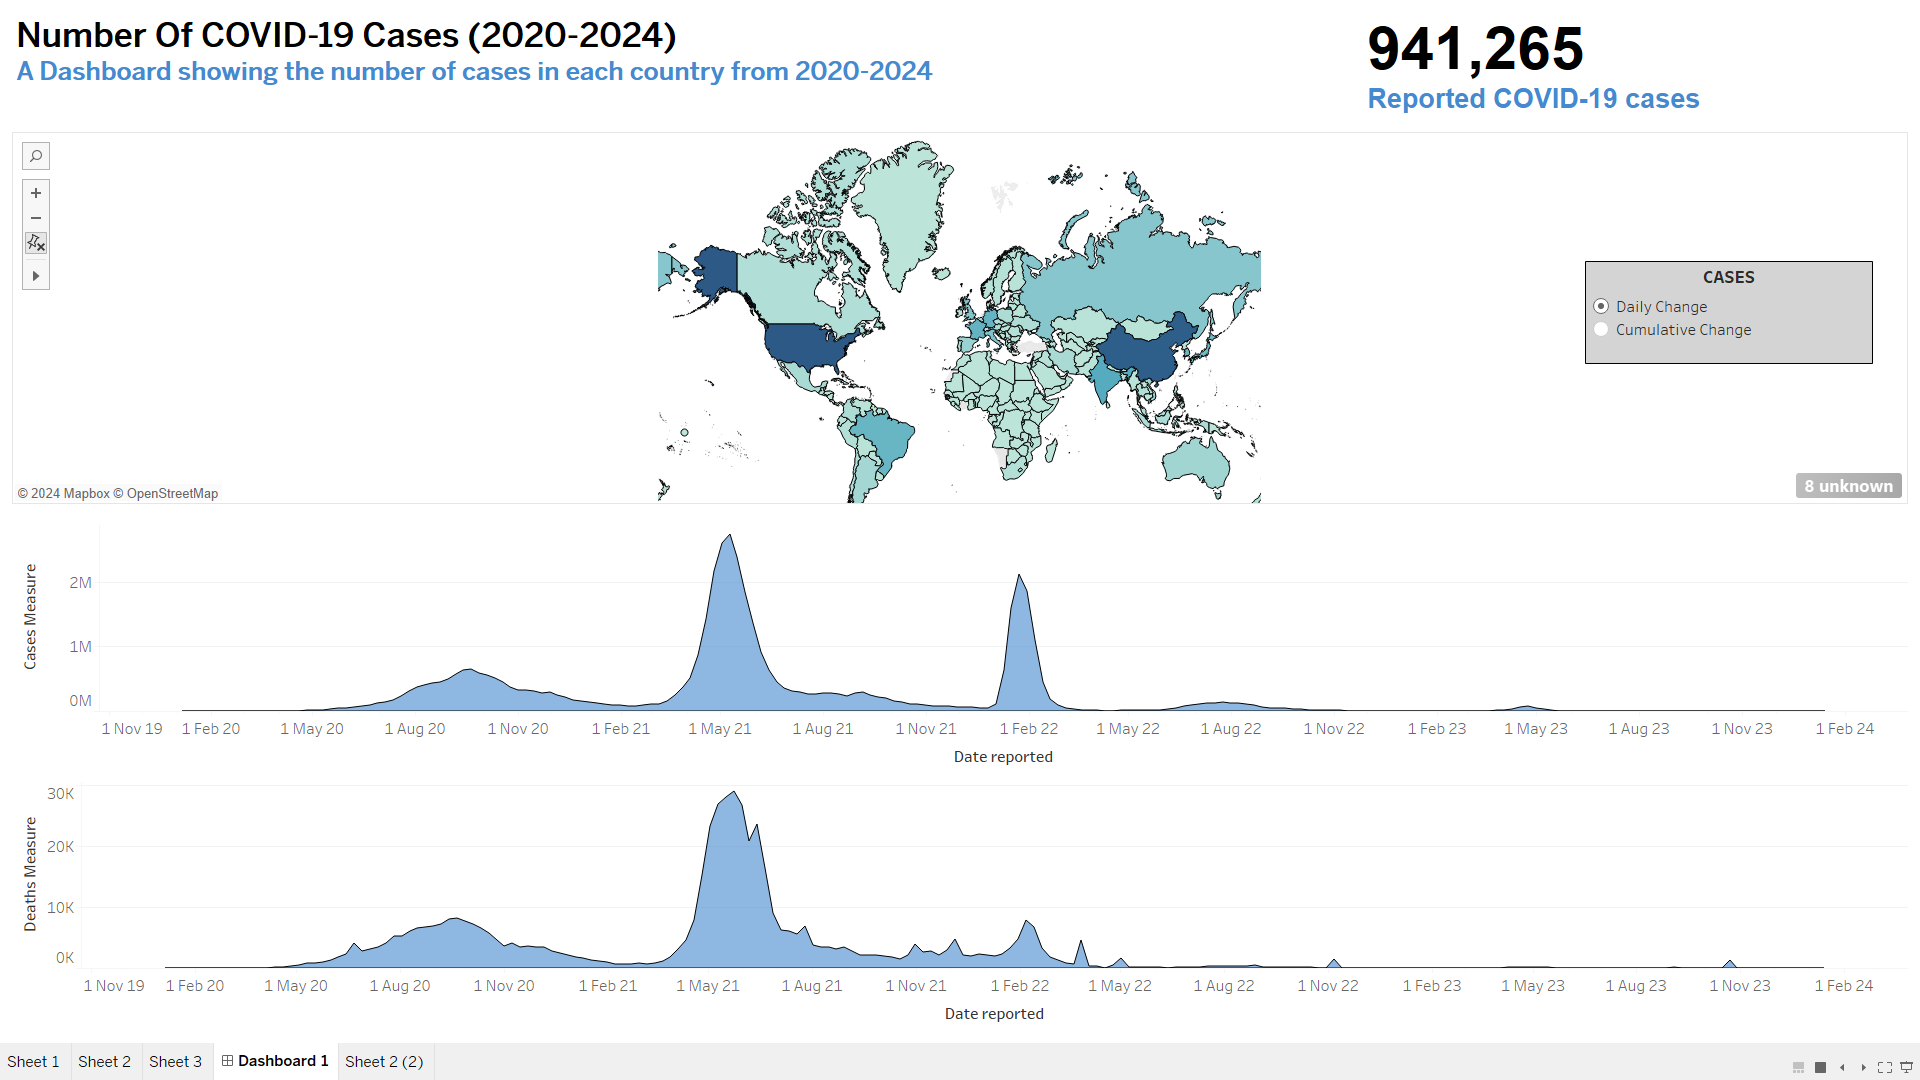

This screenshot's page, from the dashboard's own definition file:
{"tool":"tableau","page":{"name":"Dashboard 1","canvas":[1000,1000],"units":"permille","ordinal":0},"visuals":[{"type":"worksheet","title":"Sheet 1","mark":"Multipolygon","box":[4.8,9.4,990.3,490.2]},{"type":"parameter","param":"[Parameters].[Parameter 1]","box":[825.4,250.3,150.1,98.7]},{"type":"worksheet","title":"Sheet 2","mark":"Area","rows":["Calculation_1206964748507013120"],"cols":["Date_reported"],"box":[4.8,499.6,990.3,245.1]},{"type":"worksheet","title":"Sheet 3","mark":"Area","rows":["Cases Measure  (copy)_1206964748509155330"],"cols":["Date_reported"],"box":[4.8,744.6,990.3,246]}]}

Visuals, with their boxes on the dashboard's canvas, which has no fixed pixel size, in thousandths of its width and height (x1, y1, x2, y2). These are canvas units, not pixel positions in the 1920x1080 screenshot, which may show the page scaled, cropped or inside an application window:
"Sheet 1" worksheet (Multipolygon marks): Rect(5, 9, 995, 500)
parameter: Rect(825, 250, 976, 349)
"Sheet 2" worksheet (Area marks): Rect(5, 500, 995, 745)
"Sheet 3" worksheet (Area marks): Rect(5, 745, 995, 991)
